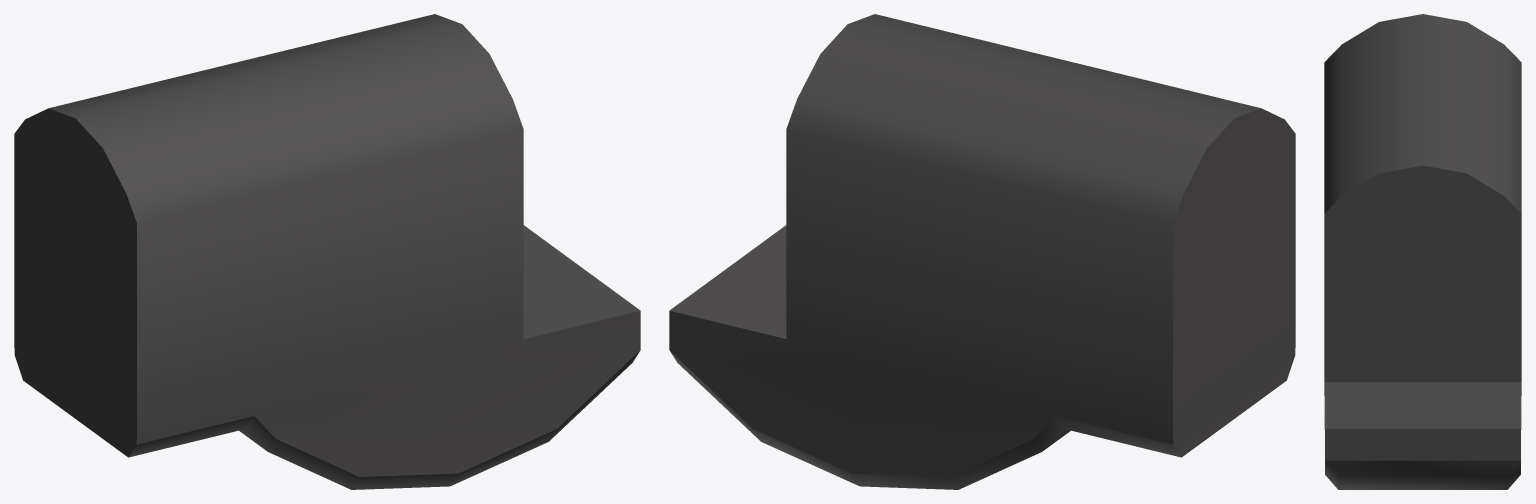
The model's file is LHipRoll.dae.
3 renders of one model, left to right at view 1: azimuth 30°, elevation 25°; view 2: azimuth 150°, elevation 25°; view 3: azimuth 270°, elevation 25°, orthographic. The views are drawn at different scales.
Visible parts, largest first — view 1: LHipRoll; view 2: LHipRoll; view 3: LHipRoll.
Part boxes in pixels (x1=…): LHipRoll: x1=14, y1=14, x2=640, y2=489; LHipRoll: x1=669, y1=14, x2=1295, y2=489; LHipRoll: x1=1324, y1=14, x2=1521, y2=489.
Size of the model in its own units: 0.6688 by 0.2822 by 0.5172.
Materials: 1 (1 with a texture image).
